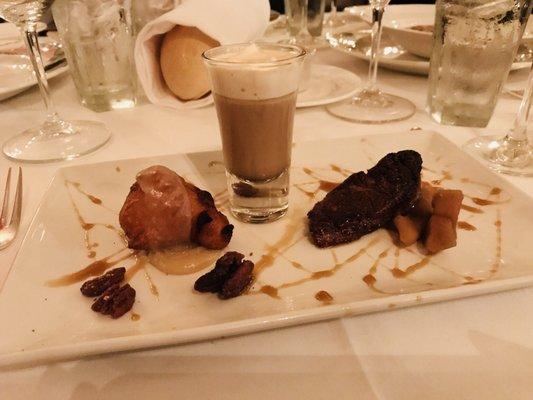pizza: (133, 0, 272, 109)
